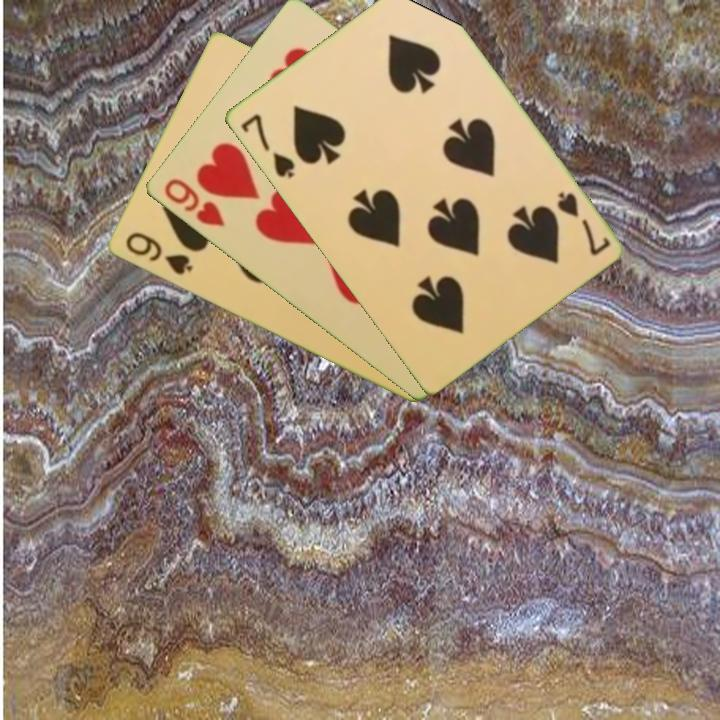7s: (236, 110, 297, 181), (552, 188, 613, 259)
9h: (160, 174, 227, 230)
9s: (121, 228, 195, 279)
